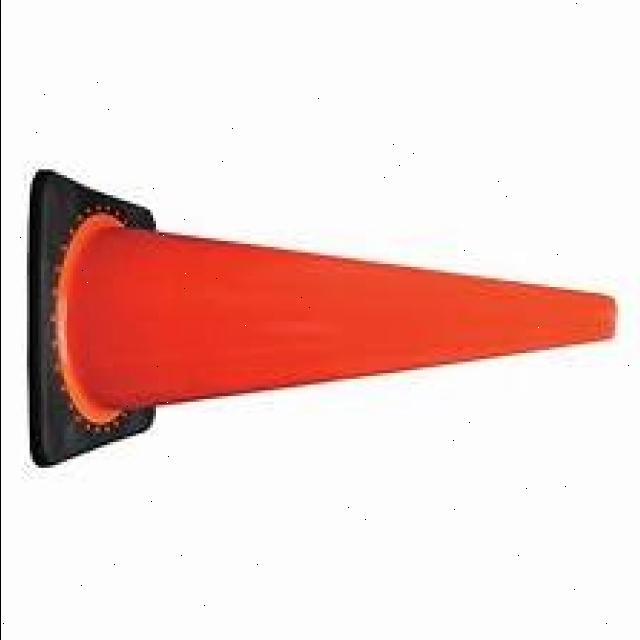traffic cone: (15, 162, 623, 479)
